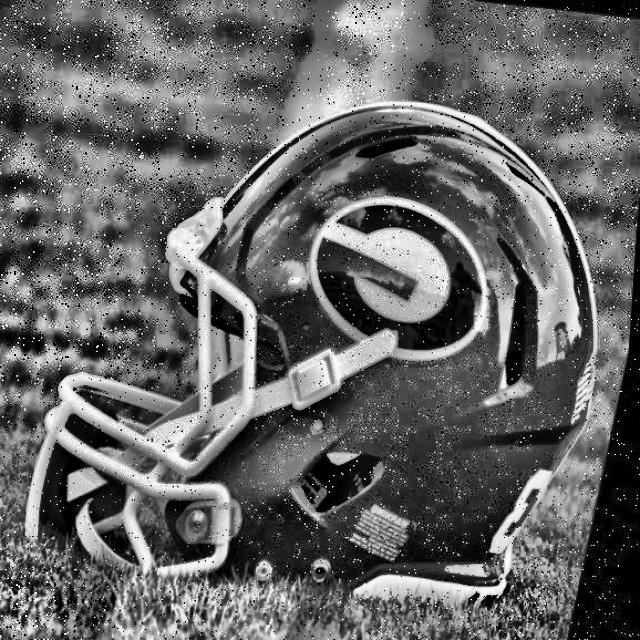Helmet: (3, 39, 640, 640)
